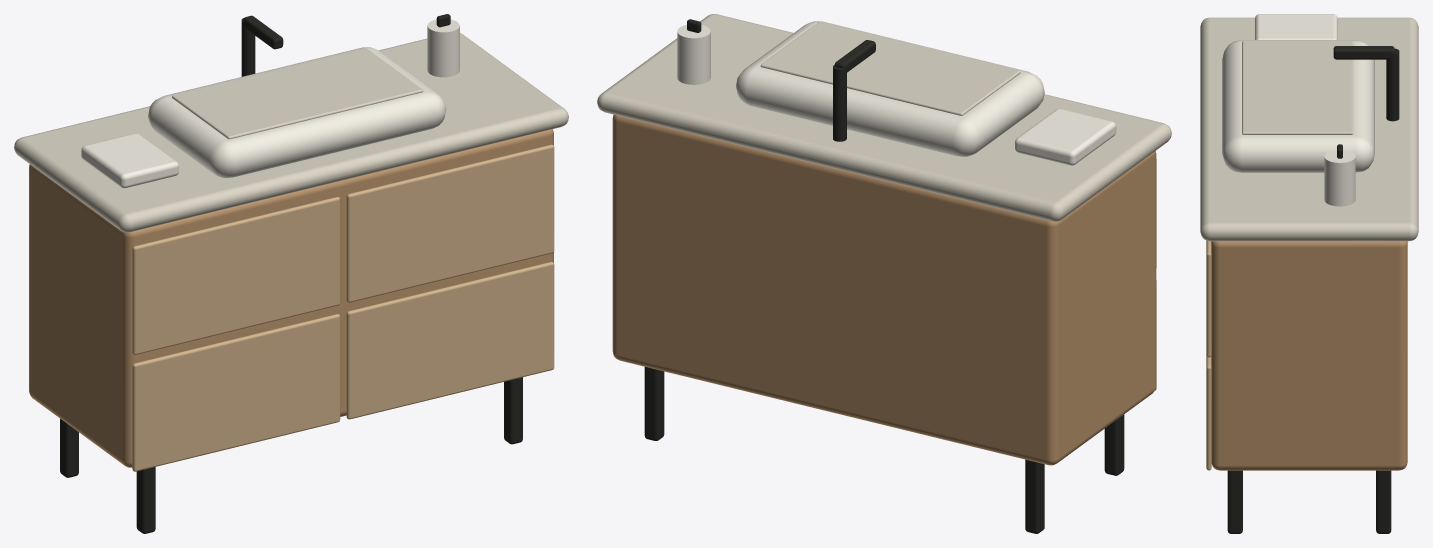
File: vanity.glb
3 views of the same model, side by side, from view 1: azimuth 30°, elevation 25°; view 2: azimuth 150°, elevation 25°; view 3: azimuth 270°, elevation 25° (orthographic). The views are drawn at different scales.
Visible parts, largest first — view 1: studio/oakLight, studio/stone, studio/oak, studio/ceramic, studio/black, studio/cream; view 2: studio/oak, studio/stone, studio/ceramic, studio/black, studio/cream; view 3: studio/oak, studio/stone, studio/ceramic, studio/black, studio/cream, studio/oakLight.
Part boxes in pixels (x1,y1,x2,y2): studio/oakLight: [132, 144, 554, 471]; studio/stone: [14, 33, 568, 232]; studio/oak: [29, 129, 553, 467]; studio/ceramic: [148, 19, 459, 177]; studio/black: [60, 14, 522, 533]; studio/cream: [81, 133, 178, 188]; studio/oak: [612, 114, 1156, 465]; studio/stone: [597, 14, 1171, 221]; studio/ceramic: [677, 21, 1044, 156]; studio/black: [644, 19, 1124, 533]; studio/cream: [1015, 108, 1116, 165]; studio/oak: [1211, 241, 1407, 470]; studio/stone: [1200, 17, 1418, 241]; studio/ceramic: [1222, 40, 1374, 206]; studio/black: [1227, 46, 1399, 533]; studio/cream: [1255, 14, 1337, 39]; studio/oakLight: [1206, 240, 1211, 470].
Size of the model in its own units: 1.15 by 1 by 0.5.
